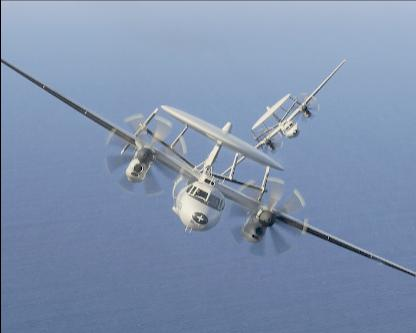C5: (1, 53, 415, 280), (220, 57, 346, 174)
